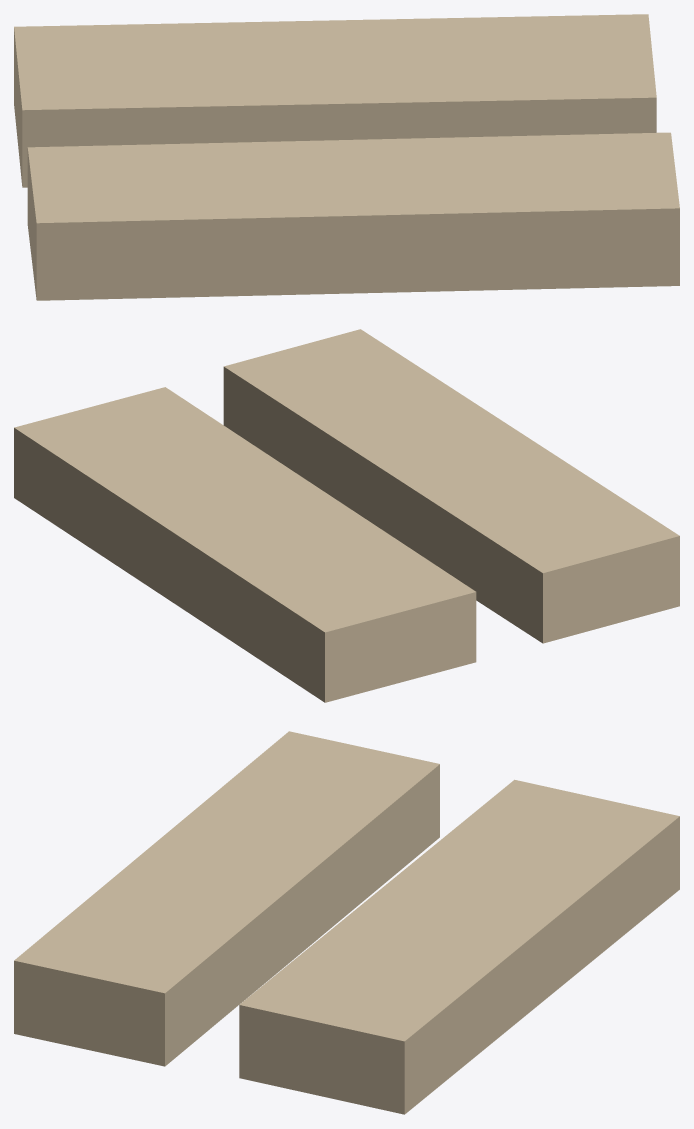
File: -18_21-estimated-coarse.glb
3 views of the same model, one above another, from view 1: azimuth 30°, elevation 25°; view 2: azimuth 150°, elevation 25°; view 3: azimuth 270°, elevation 25° (orthographic). The views are drawn at different scales.
Size of the model in its own units: 109 by 12 by 98.86.
